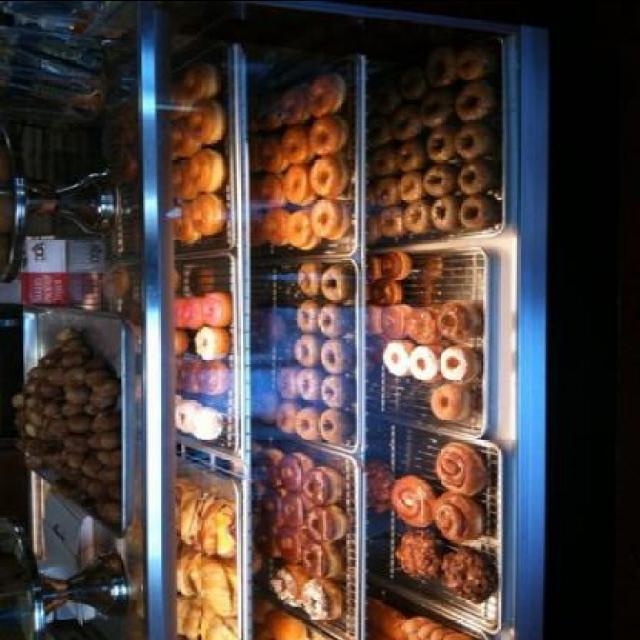Donuts: (252, 1, 534, 633), (162, 41, 236, 462)
